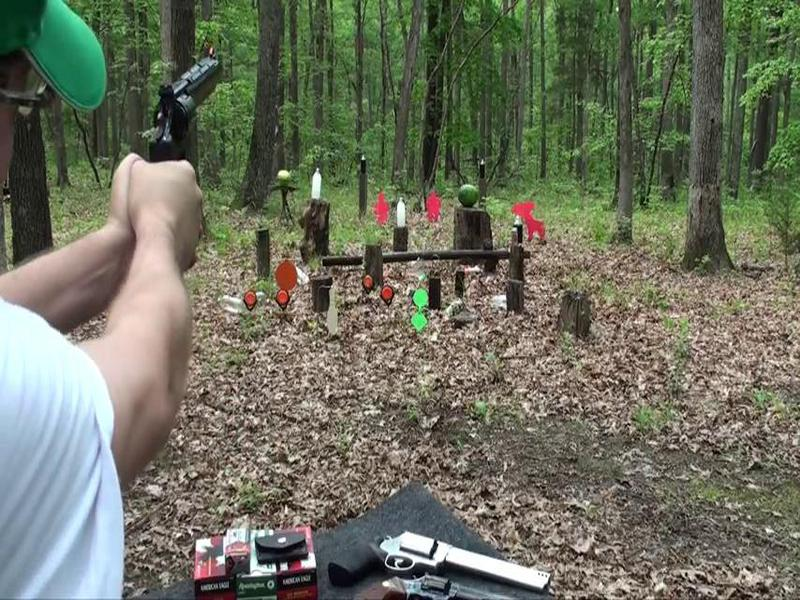Revolver: (147, 41, 227, 195)
